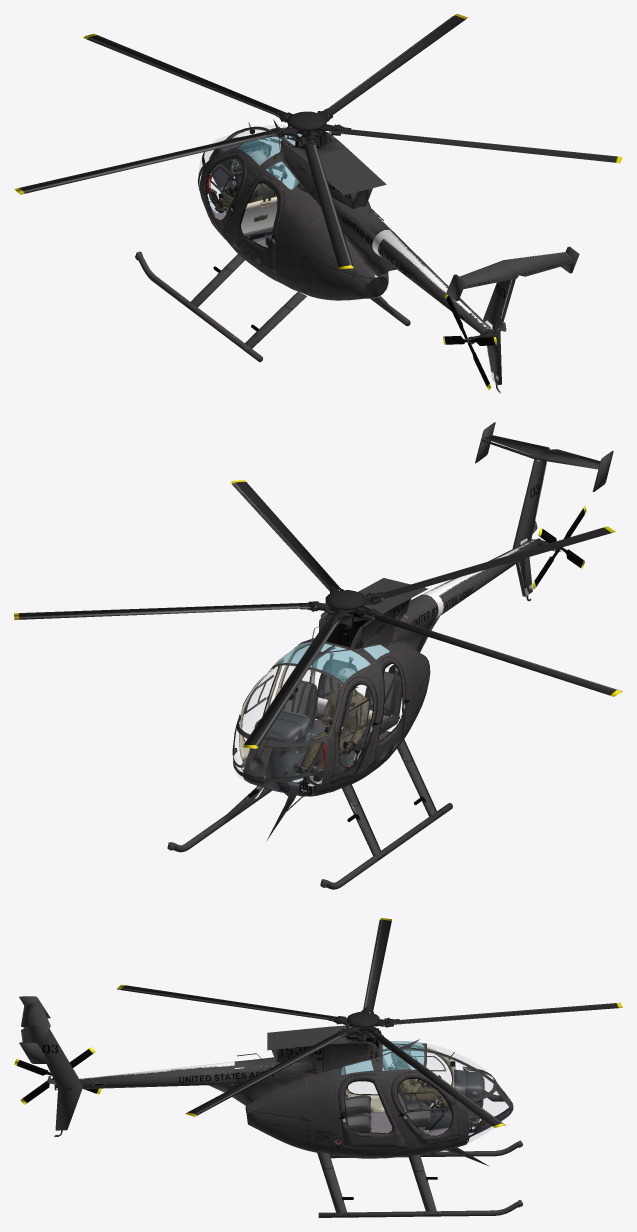
3 renders of one model, top to bottom at view 1: azimuth 30°, elevation 25°; view 2: azimuth 150°, elevation 25°; view 3: azimuth 270°, elevation 25°, orthographic. The views are drawn at different scales.
Visible parts, largest first — view 1: ext_fuse1, rotor_main, ext_fuse1_doors, ext_skids, glasss_grn, int_seats2, int_console, rotor_tail, int_pilotR, int_fuse2, int_seats1; view 2: ext_fuse1, rotor_main, ext_fuse1_doors, ext_skids, int_seats1, int_console, int_pilotR, glasss_grn, glass, int_fuse2, rotor_tail, int_seats2; view 3: ext_fuse1, rotor_main, ext_fuse1_doors, ext_skids, int_seats1, glass, int_console, glasss_grn, int_pilotR, rotor_tail, int_fuse2, int_fuse4.
Boxes of the visible parts, x1,y1,x2,y2 form: ext_fuse1: [198, 119, 579, 393]; rotor_main: [14, 14, 622, 269]; ext_fuse1_doors: [204, 152, 298, 273]; ext_skids: [135, 251, 410, 362]; glasss_grn: [238, 128, 301, 190]; int_seats2: [233, 195, 333, 239]; int_console: [206, 139, 271, 194]; rotor_tail: [443, 294, 497, 390]; int_pilotR: [209, 150, 277, 221]; int_fuse2: [198, 128, 285, 197]; int_seats1: [209, 122, 345, 247]; ext_fuse1: [233, 422, 613, 840]; rotor_main: [14, 480, 622, 748]; ext_fuse1_doors: [239, 642, 406, 783]; ext_skids: [167, 739, 452, 889]; int_seats1: [241, 652, 409, 794]; int_console: [254, 709, 326, 791]; int_pilotR: [293, 668, 369, 781]; glasss_grn: [274, 638, 389, 682]; glass: [234, 666, 310, 781]; int_fuse2: [232, 646, 341, 796]; rotor_tail: [532, 506, 586, 589]; int_seats2: [275, 687, 372, 767]; ext_fuse1: [19, 996, 513, 1166]; rotor_main: [117, 918, 622, 1127]; ext_fuse1_doors: [338, 1043, 458, 1149]; ext_skids: [317, 1140, 522, 1217]; int_seats1: [338, 1052, 481, 1142]; glass: [348, 1044, 508, 1143]; int_console: [425, 1069, 484, 1132]; glasss_grn: [341, 1041, 424, 1074]; int_pilotR: [394, 1043, 449, 1108]; rotor_tail: [14, 1047, 101, 1104]; int_fuse2: [382, 1043, 511, 1136]; int_fuse4: [370, 1108, 448, 1135].
Bounding box in the file's own units: 7.48 × 2.89 × 9.2.
11 materials, 11 textured.
